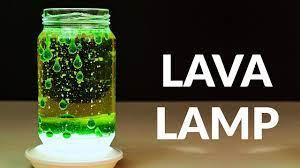Lamp: (33, 2, 119, 153)
